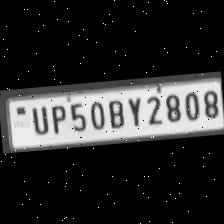0: (84, 96, 106, 131), (180, 88, 201, 120)
2: (141, 91, 163, 126)
5: (66, 97, 88, 132)
8: (161, 90, 183, 124), (199, 86, 220, 119)
B: (104, 94, 126, 129)
P: (46, 101, 68, 135)
U: (27, 102, 50, 135)
Y: (124, 93, 144, 127)
